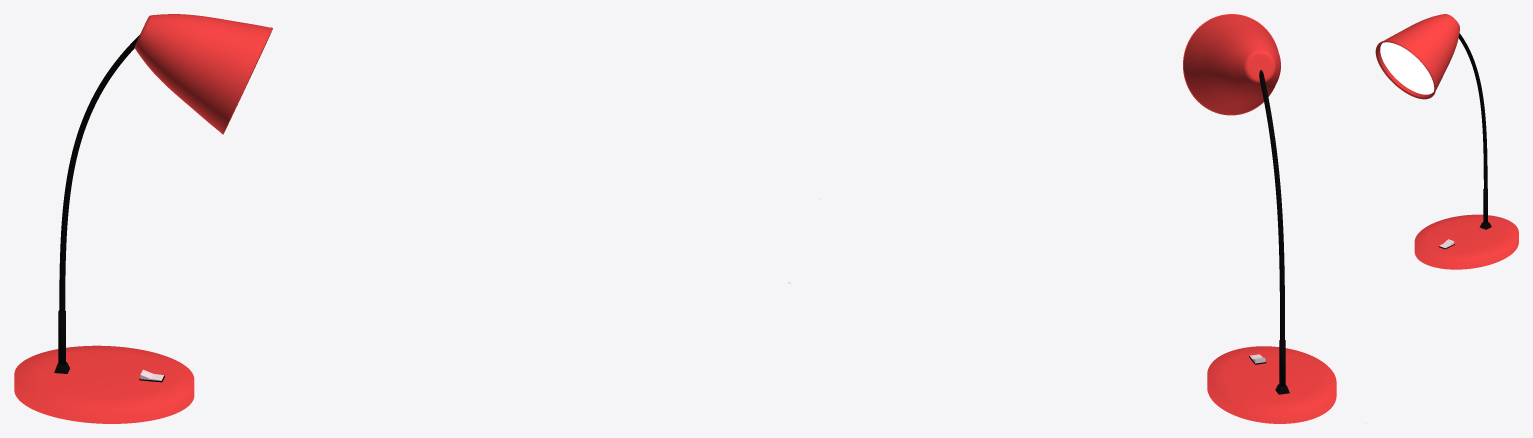
The model's file is lamp.glb.
3 views of the same model, side by side, from view 1: azimuth 30°, elevation 25°; view 2: azimuth 150°, elevation 25°; view 3: azimuth 270°, elevation 25° (orthographic). The views are drawn at different scales.
Parts seen in each view (by area): view 1: Cylinder, Cylinder.002, Cylinder.001; view 2: Cylinder, Cylinder.002, Cylinder.001; view 3: Cylinder, Cylinder.002, Cylinder.003, Cylinder.001.
Part boxes in pixels (<box>): Cylinder: <box>14,345,194,423</box>; Cylinder.002: <box>134,14,272,134</box>; Cylinder.001: <box>58,35,139,364</box>; Cylinder: <box>1207,346,1336,423</box>; Cylinder.002: <box>1183,14,1280,115</box>; Cylinder.001: <box>1259,70,1285,386</box>; Cylinder: <box>1414,214,1518,269</box>; Cylinder.002: <box>1375,14,1459,99</box>; Cylinder.003: <box>1380,42,1434,94</box>; Cylinder.001: <box>1458,33,1487,223</box>.
Bounding box in the file's own units: 1.05 × 0.5647 × 0.323.
